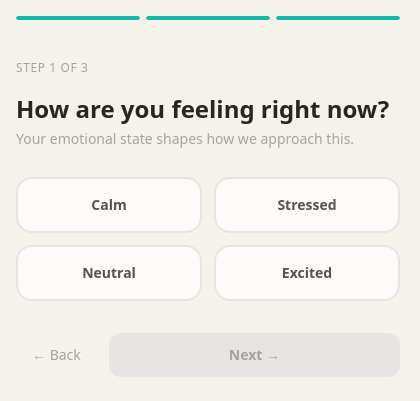
Scenario: PrechatScreen › last step shows "Let's talk →" button
Click the button "Calm" at (109,204), box [16,176,202,232]
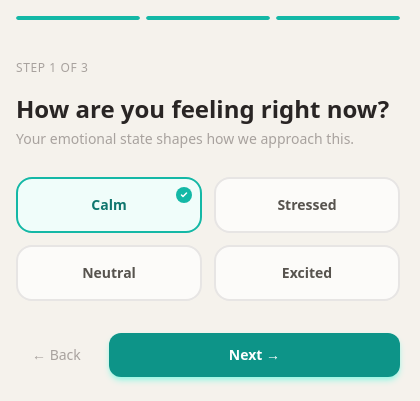
Click the button "Next →" at (254,354), box [109,332,400,376]
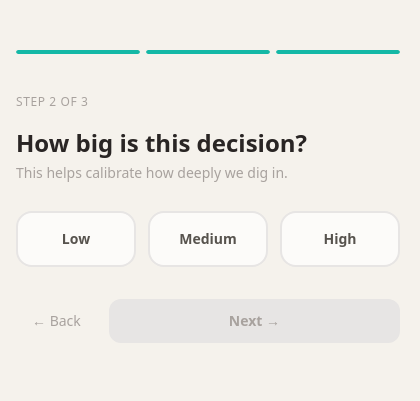
Click the button "High" at (340,238), box [280,210,400,266]
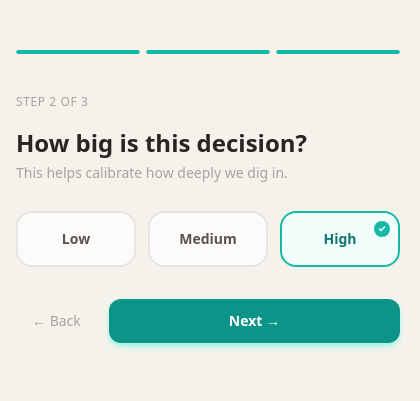
Click the button "Next →" at (254,320), box [109,298,400,342]
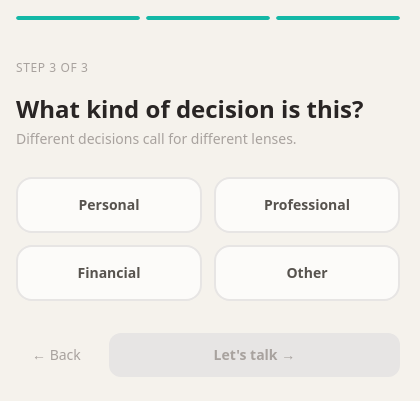
Now the button "Let's talk →" is shown, box [109,332,400,376]
Now the heading "What kind of decision is this?" is shown, box [16,92,400,124]
